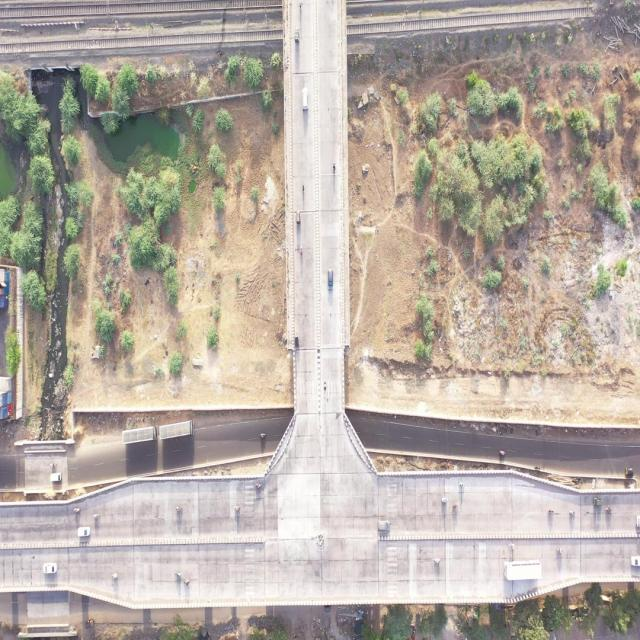3W: (624, 467, 636, 478), (295, 208, 302, 225), (85, 619, 95, 630), (295, 333, 301, 351), (294, 26, 300, 44), (593, 497, 602, 508), (323, 605, 332, 614)
Bus: (503, 558, 543, 582)
Cars: (41, 560, 60, 579), (301, 86, 309, 112), (50, 471, 64, 485), (376, 519, 391, 532), (76, 526, 91, 538), (328, 268, 335, 291)
M2W: (110, 572, 121, 582), (175, 504, 184, 516), (93, 511, 102, 522), (72, 506, 81, 516), (498, 447, 507, 457), (183, 577, 190, 589), (606, 505, 613, 517), (174, 569, 182, 579), (432, 557, 442, 565), (508, 542, 516, 551), (233, 505, 241, 512), (458, 480, 465, 488), (556, 547, 564, 554), (259, 432, 267, 439), (47, 462, 58, 467), (451, 503, 458, 510), (548, 509, 555, 516), (441, 496, 447, 504), (300, 244, 304, 256), (332, 161, 336, 173), (299, 1, 303, 13), (302, 182, 306, 193), (255, 483, 262, 489), (568, 510, 575, 516), (324, 380, 327, 393)
MAV: (122, 426, 157, 444), (160, 421, 195, 439)
